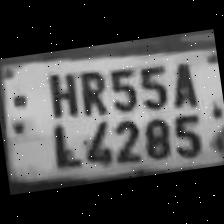2: (108, 113, 142, 166)
4: (77, 114, 115, 169)
5: (166, 107, 206, 159), (132, 58, 170, 110), (104, 62, 140, 114)
8: (138, 114, 172, 162)
A: (162, 56, 202, 110)
H: (38, 65, 82, 121)
L: (42, 116, 82, 171)
R: (72, 64, 110, 116)
